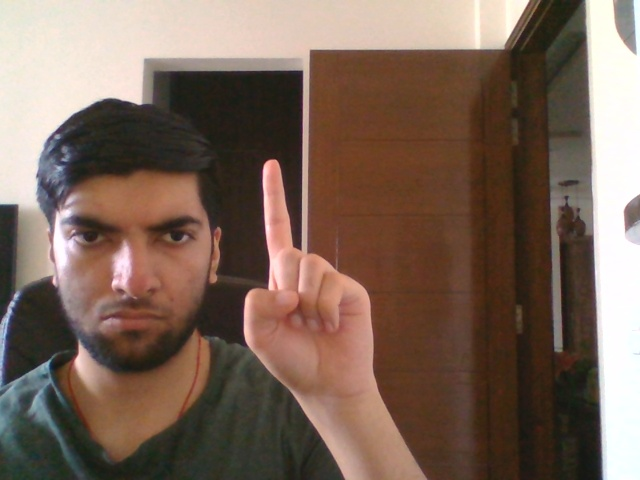LetterD: (243, 158, 375, 394)
